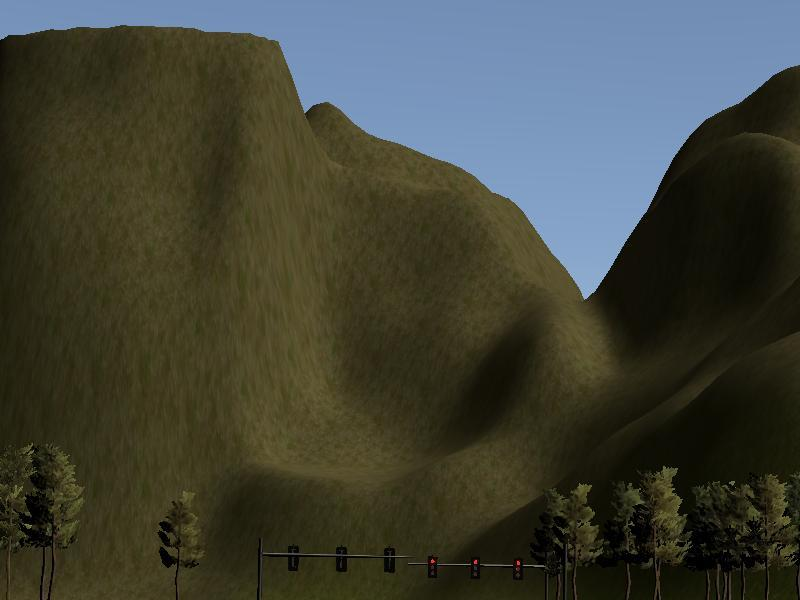Red: (469, 555, 480, 580), (427, 554, 438, 578), (513, 557, 524, 581)
